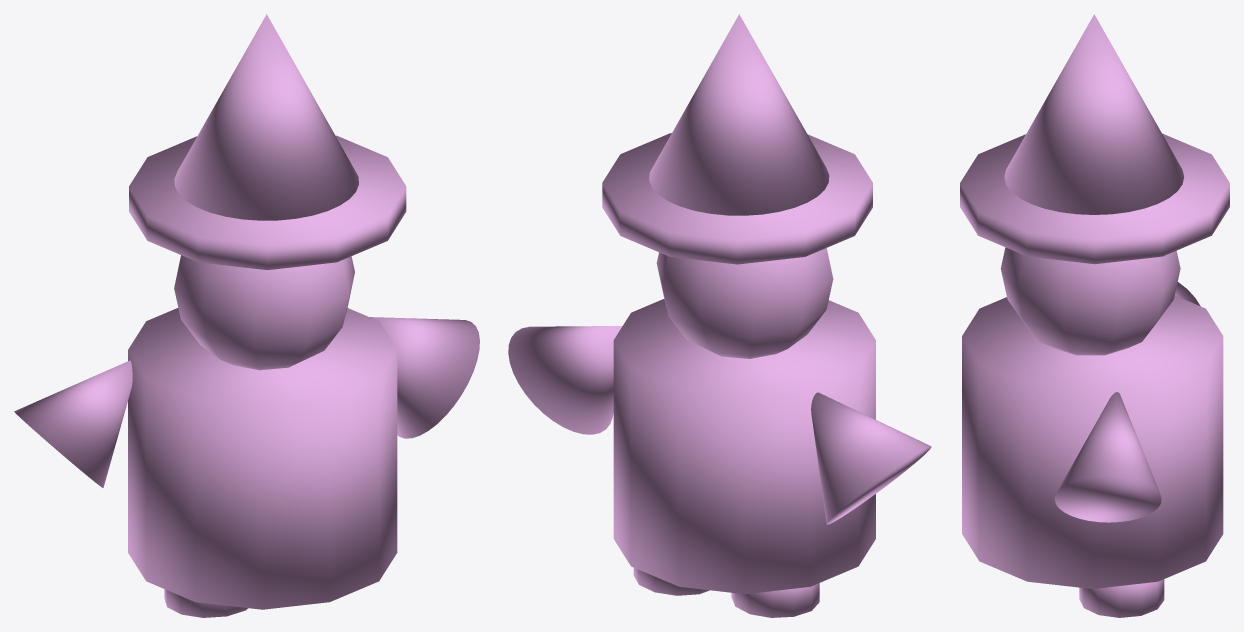
File: personagem.fbx
The picture shows the model from 3 angles, left to right: view 1: azimuth 30°, elevation 25°; view 2: azimuth 150°, elevation 25°; view 3: azimuth 270°, elevation 25°; orthographic projection. The views are drawn at different scales.
Visible parts, largest first — view 1: Cone.002; view 2: Cone.002; view 3: Cone.002.
Part boxes in pixels (x1,y1,x2,y2): Cone.002: [14, 14, 479, 617]; Cone.002: [508, 14, 931, 617]; Cone.002: [960, 14, 1229, 617].
Size of the model in its own units: 974 by 1248 by 540.
